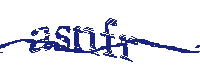a: (30, 24, 51, 56)
f: (100, 13, 120, 62)
n: (73, 25, 99, 57)
r: (117, 32, 140, 62)
s: (53, 23, 71, 53)
